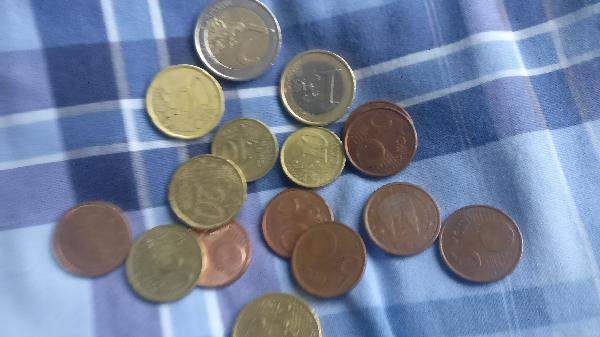Fifty Cent: (228, 290, 323, 337)
Five Cent: (438, 199, 525, 286), (161, 219, 253, 290), (53, 201, 131, 282), (345, 101, 426, 176), (287, 222, 368, 296), (259, 190, 334, 263), (366, 181, 441, 254)
One Euro: (282, 48, 352, 125)
Ten Cent: (283, 127, 347, 190), (215, 122, 276, 180)
Twenty Cent: (127, 222, 207, 307), (144, 61, 222, 137), (170, 154, 248, 227)
Two Euro: (192, 2, 283, 84)
